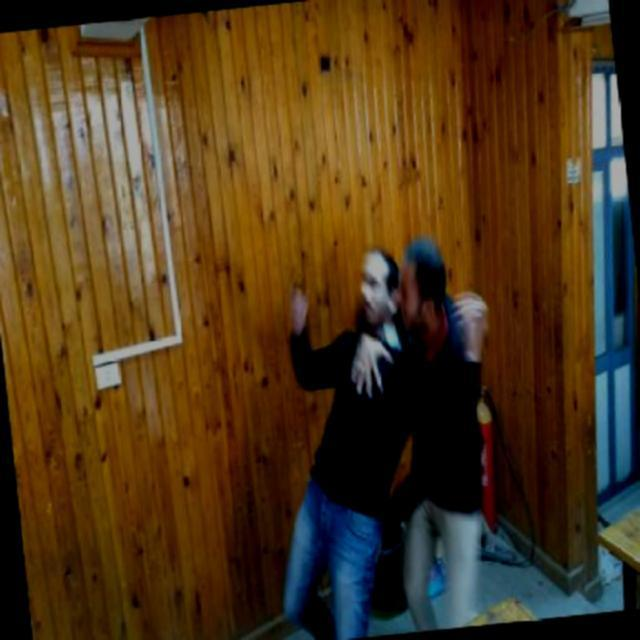fight: (263, 210, 512, 562)
